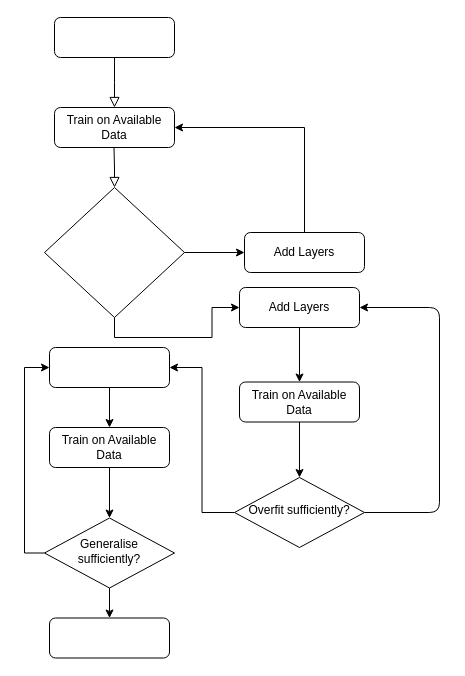
The diagram is 465 pixels wide and 676 high, and some of its shapes have lost their labels. Here are the shapes that lost their labels. From the top down, the centre of each, then its label:
point (114, 37): Set Up Basic Architecure
point (114, 252): Accuracy/Loss better than random Guess?
point (109, 367): Data Augment/Prune Network
point (109, 637): Deploy
